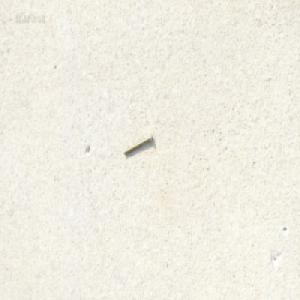Bolt: (122, 133, 152, 155)
